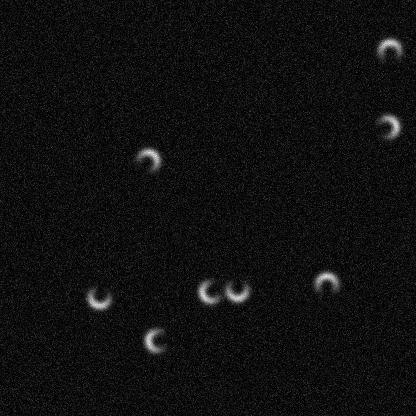Janus: (371, 112, 401, 142), (374, 36, 404, 66), (132, 146, 162, 176), (142, 325, 172, 355), (311, 269, 341, 299), (195, 276, 225, 306), (222, 273, 252, 303), (84, 281, 114, 311)
